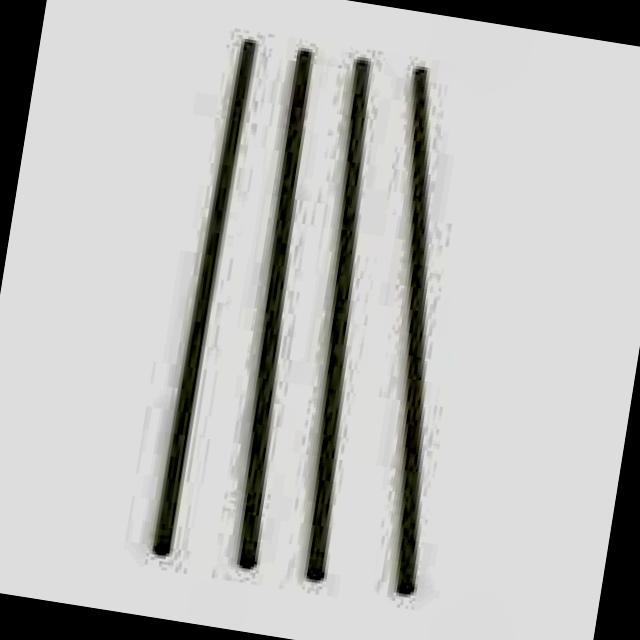plastic straw: (159, 41, 250, 553), (244, 50, 312, 568), (309, 59, 370, 580), (398, 68, 428, 592)
